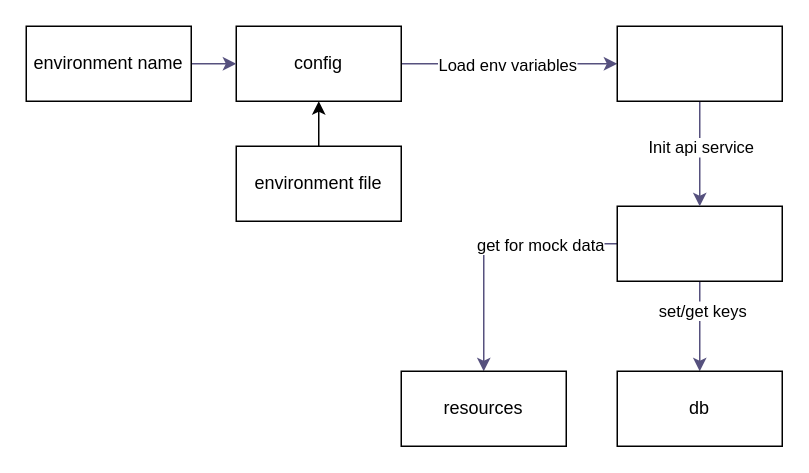
This 809x473 diagram has some shape labels left out. Each missing label, with the centre of its shape:
"api" goes at (x=699, y=243).
"main.go" goes at (x=699, y=63).
